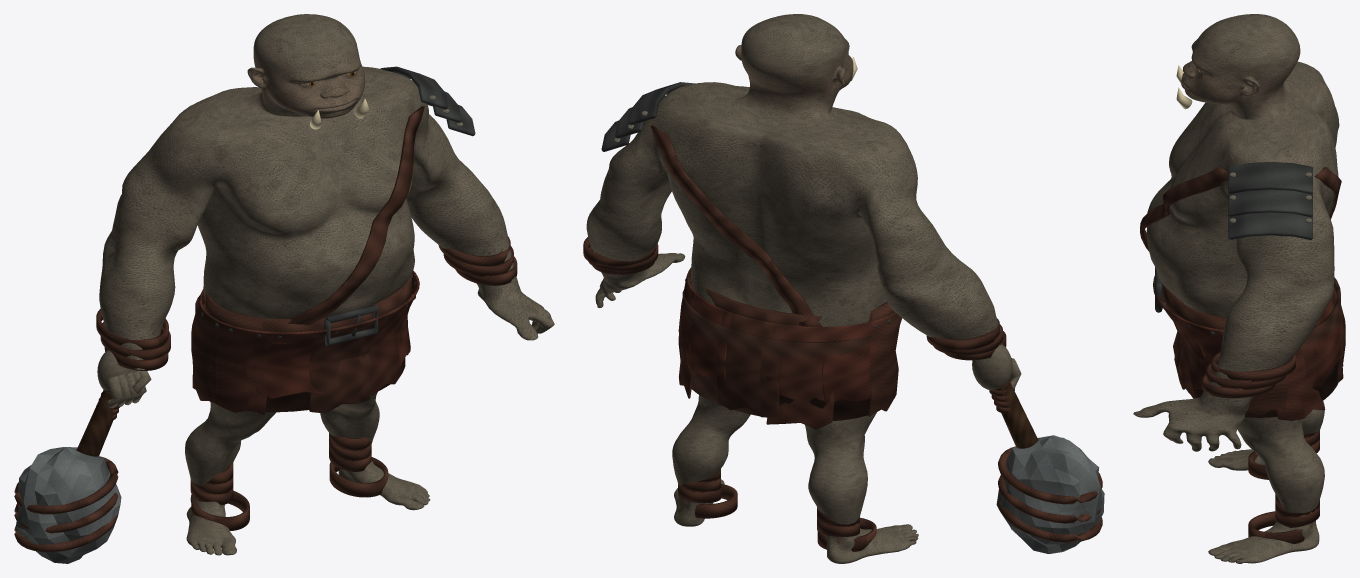
Rendered from ogre_geometry.glb.
3 views of the same model, side by side, from view 1: azimuth 30°, elevation 25°; view 2: azimuth 150°, elevation 25°; view 3: azimuth 270°, elevation 25° (orthographic). The views are drawn at different scales.
Visible parts, largest first — view 1: ogre_part_000, ogre_part_081, ogre_part_038, ogre_part_032, ogre_part_063, ogre_part_035, ogre_part_009, ogre_part_041, ogre_part_029, ogre_part_080, ogre_part_084, ogre_part_062 (+11 smaller); view 2: ogre_part_000, ogre_part_081, ogre_part_020, ogre_part_010, ogre_part_023, ogre_part_064, ogre_part_026, ogre_part_029, ogre_part_017, ogre_part_009, ogre_part_074, ogre_part_080 (+8 smaller); view 3: ogre_part_000, ogre_part_065, ogre_part_014, ogre_part_068, ogre_part_071, ogre_part_063, ogre_part_041, ogre_part_017, ogre_part_010, ogre_part_044, ogre_part_009, ogre_part_058 (+9 smaller).
Boxes of the visible parts, x1,y1,x2,y2 form: ogre_part_000: (99, 14, 554, 555); ogre_part_081: (16, 447, 121, 563); ogre_part_038: (309, 315, 382, 413); ogre_part_032: (211, 323, 276, 414); ogre_part_063: (288, 106, 424, 325); ogre_part_035: (255, 328, 332, 398); ogre_part_009: (205, 274, 411, 343); ogre_part_041: (361, 296, 413, 398); ogre_part_029: (192, 305, 228, 404); ogre_part_080: (76, 390, 115, 456); ogre_part_084: (14, 456, 118, 514); ogre_part_062: (329, 457, 388, 497); ogre_part_000: (586, 14, 1003, 563); ogre_part_081: (996, 435, 1104, 553); ogre_part_020: (716, 310, 784, 417); ogre_part_010: (682, 281, 880, 420); ogre_part_023: (766, 324, 840, 429); ogre_part_064: (650, 125, 822, 326); ogre_part_026: (822, 317, 886, 404); ogre_part_029: (868, 312, 902, 416); ogre_part_017: (685, 290, 731, 381); ogre_part_009: (705, 288, 894, 325); ogre_part_074: (972, 344, 1012, 390); ogre_part_080: (999, 380, 1038, 448); ogre_part_000: (1133, 14, 1339, 563); ogre_part_065: (1228, 162, 1312, 194); ogre_part_014: (1276, 339, 1325, 420); ogre_part_068: (1228, 189, 1312, 216); ogre_part_071: (1228, 212, 1312, 239); ogre_part_063: (1140, 167, 1228, 251); ogre_part_041: (1157, 296, 1205, 398); ogre_part_017: (1312, 299, 1343, 386); ogre_part_010: (1186, 277, 1340, 417); ogre_part_044: (1176, 316, 1223, 388); ogre_part_009: (1162, 284, 1226, 329); ogre_part_058: (1211, 352, 1295, 381).
Size of the model in its own units: 3.35 by 3.14 by 1.23.
7 materials, 5 textured.
